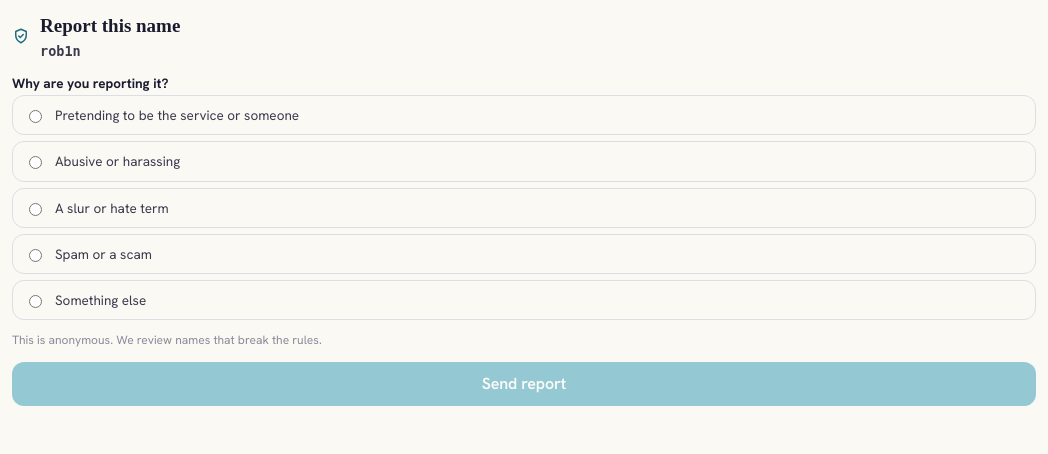
Test: ReportName › surfaces an error and stays on the form when sending fails
The width and height of the screenshot is (1048, 454).
Click the radio button labelled "Spam or a scam".
click(36, 255)  # box [29, 249, 42, 262]
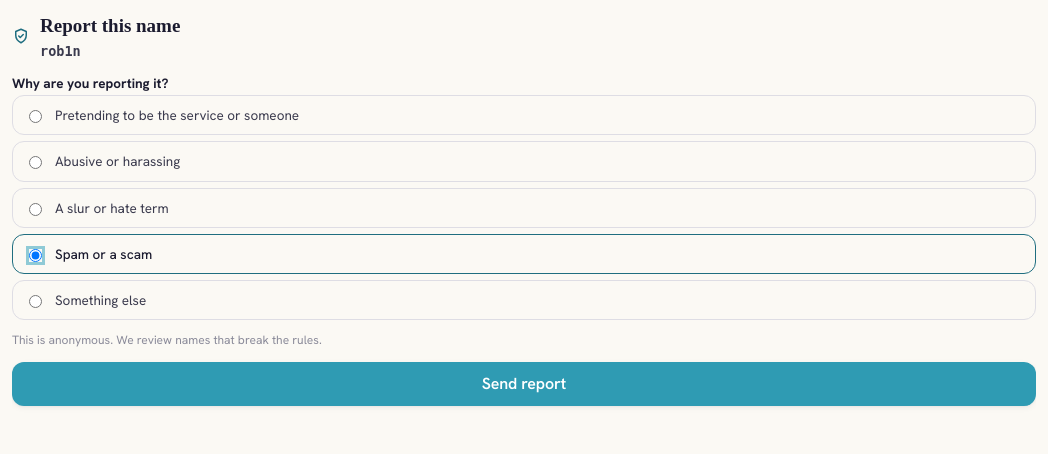
Click the button "Send report".
click(524, 384)  # box [12, 362, 1036, 406]
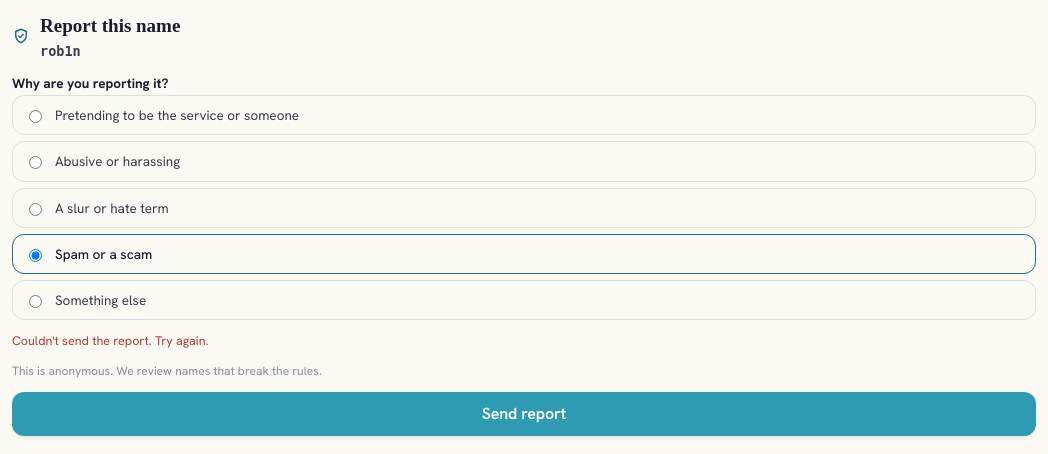
Expected: the text "Couldn't send the report. Try again." is shown, [12, 332, 208, 349]
